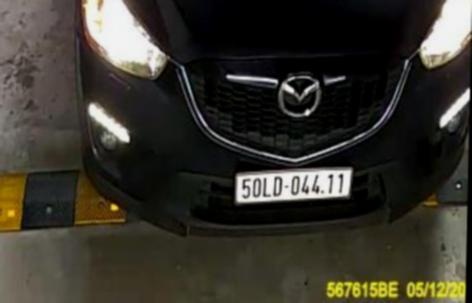License_Plate: (232, 162, 353, 212)
